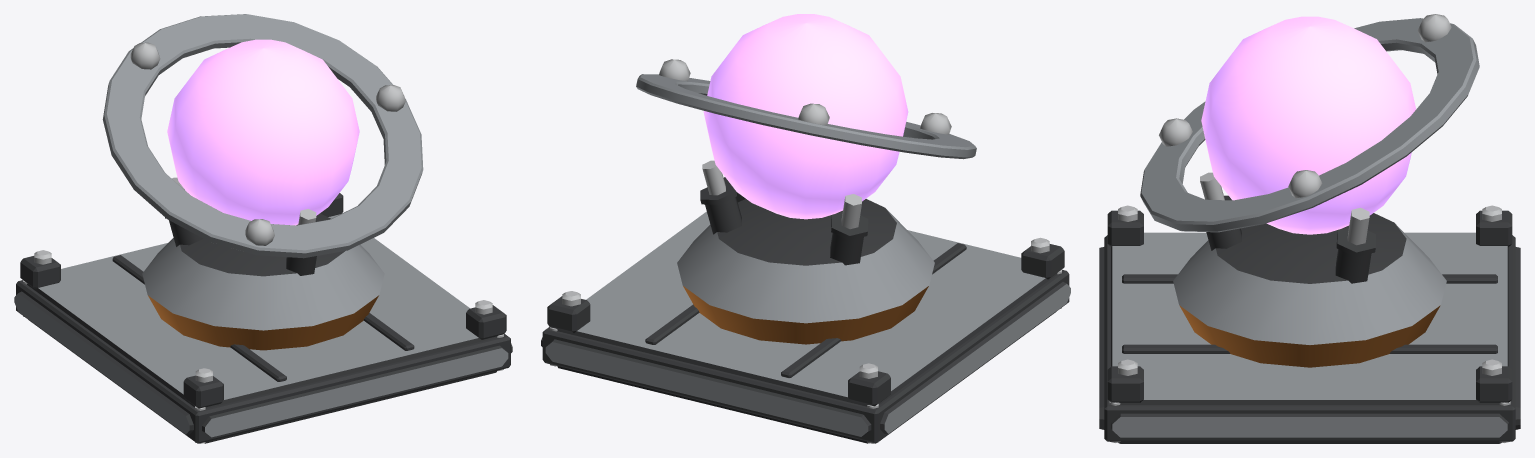
The model's file is R4X_OrbAmplifier.fbx.
3 views of the same model, side by side, from view 1: azimuth 30°, elevation 25°; view 2: azimuth 150°, elevation 25°; view 3: azimuth 270°, elevation 25° (orthographic). The views are drawn at different scales.
Parts seen in each view (by area): view 1: R4X_OrbAmplifier_Body, R4X_OrbAmplifier_Ring; view 2: R4X_OrbAmplifier_Body, R4X_OrbAmplifier_Ring; view 3: R4X_OrbAmplifier_Body, R4X_OrbAmplifier_Ring.
Part boxes in pixels (left/top/right/bottom): R4X_OrbAmplifier_Body: left=14, top=39, right=512, bottom=443; R4X_OrbAmplifier_Ring: left=102, top=14, right=423, bottom=258; R4X_OrbAmplifier_Body: left=541, top=14, right=1070, bottom=443; R4X_OrbAmplifier_Ring: left=636, top=59, right=976, bottom=159; R4X_OrbAmplifier_Body: left=1099, top=16, right=1520, bottom=443; R4X_OrbAmplifier_Ring: left=1140, top=14, right=1479, bottom=232.
Bounding box in the file's own units: 0.52 × 0.455 × 0.52.
